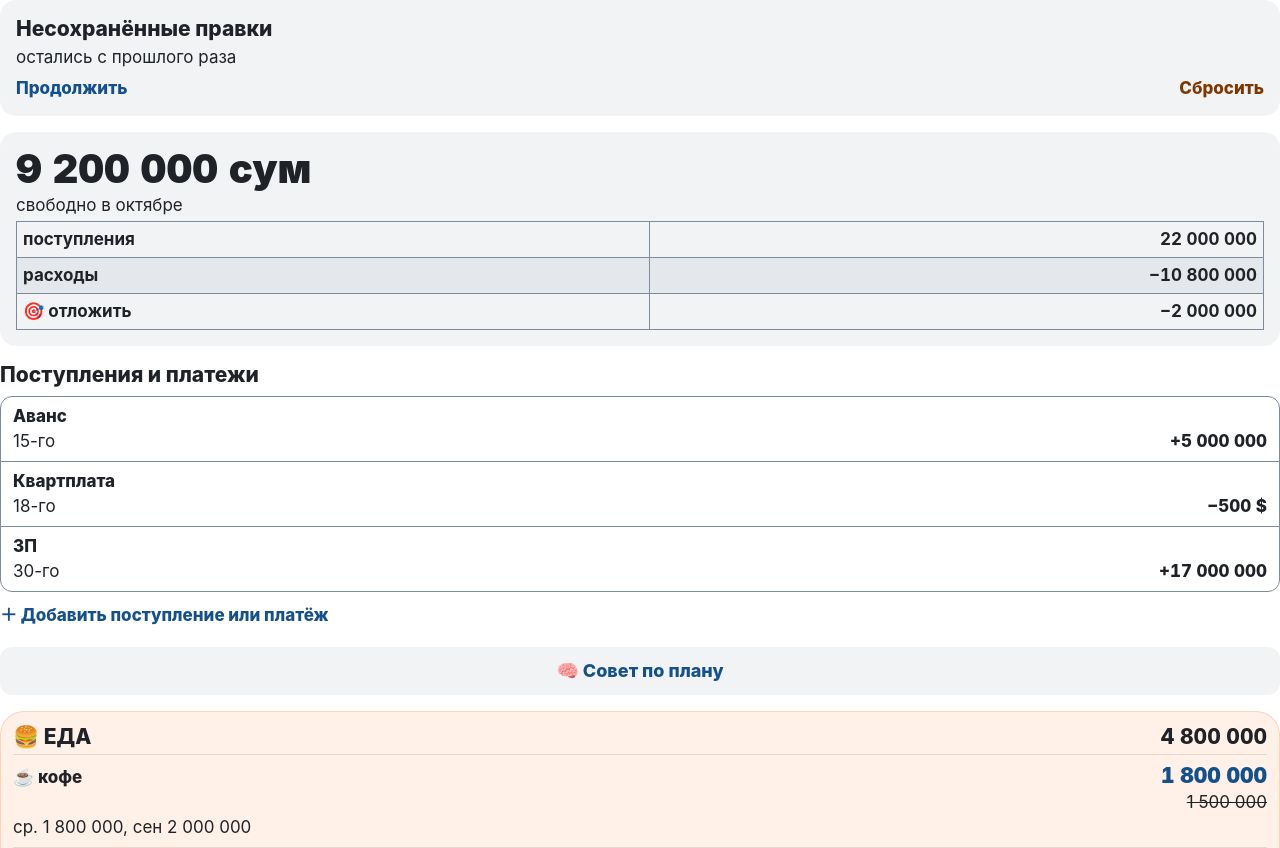
it: PlanScreen › offers to continue or reset the edits from last time
The image size is (1280, 848).
Expected: the text "Несохранённые правки" is shown, [16,16,272,41]
Expected: the text "остались с прошлого раза" is shown, [16,47,236,67]
Click the button "Сбросить" at (1222, 89), box [1179,77,1264,100]
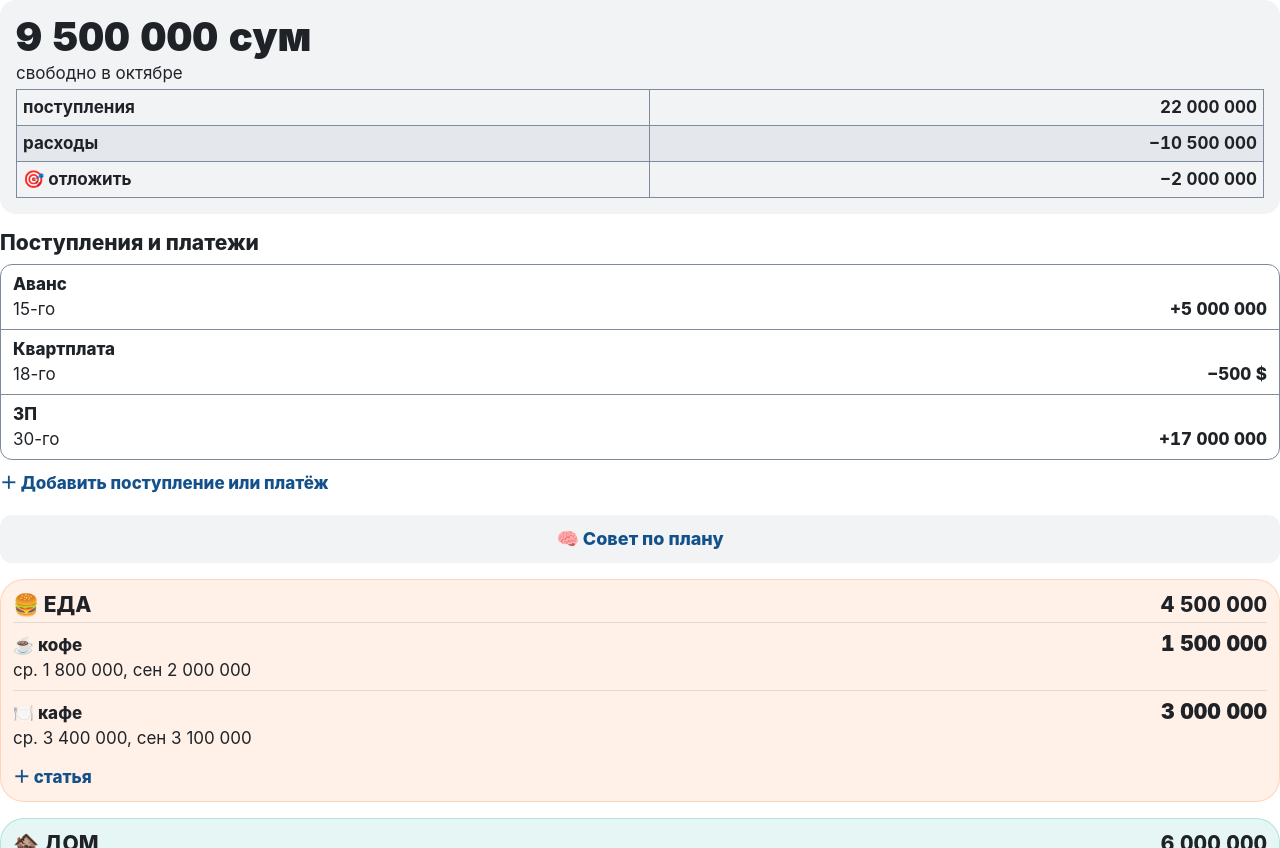
Expected: the text "Несохранённые правки" is gone
